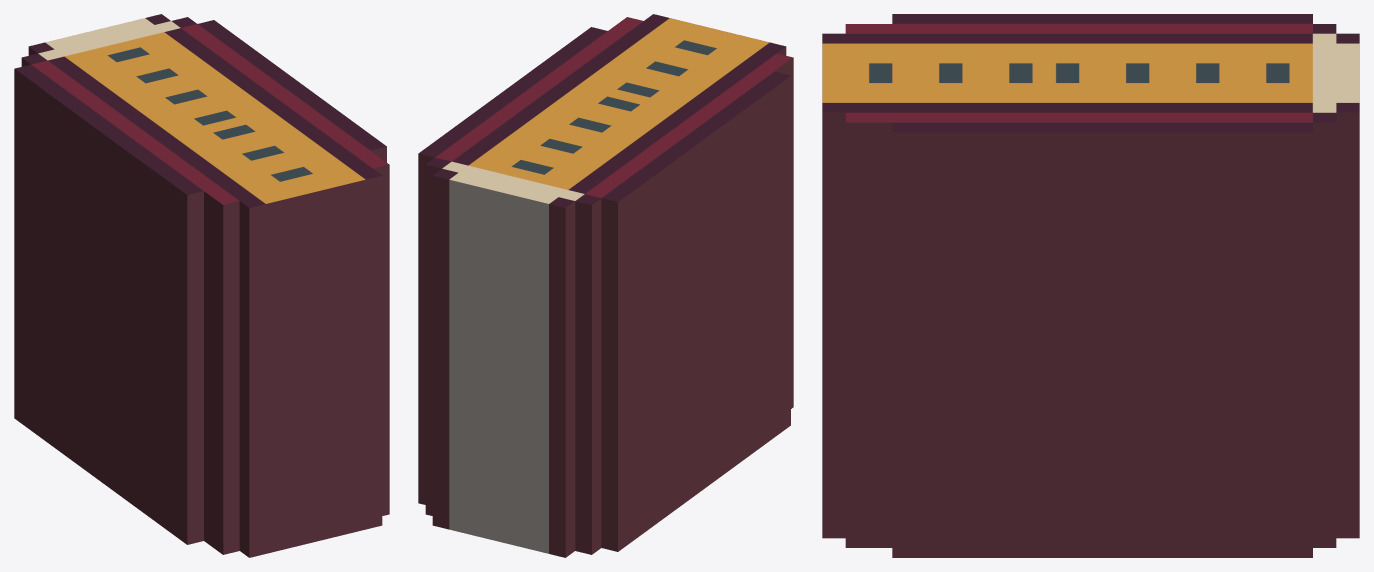
Rendered from book2.glb.
3 renders of one model, left to right at view 1: azimuth 30°, elevation 25°; view 2: azimuth 150°, elevation 25°; view 3: azimuth 270°, elevation 25°, orthographic. The views are drawn at different scales.
Visible parts, largest first — view 1: book2-1; view 2: book2-1; view 3: book2-1.
Boxes of the visible parts, bbox=[...] form: book2-1: bbox=[14, 14, 389, 557]; book2-1: bbox=[418, 14, 793, 557]; book2-1: bbox=[822, 14, 1359, 557].
Bounding box in the file's own units: 1.5 × 2.51 × 2.88.
3 materials, 1 textured.
